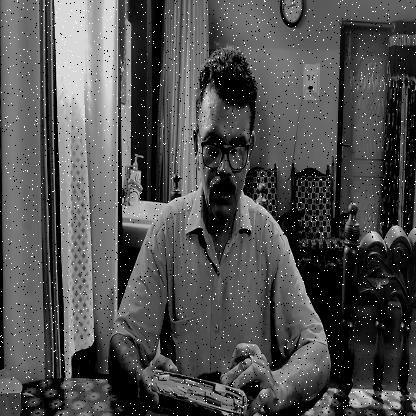Normal: (197, 50, 259, 225)
